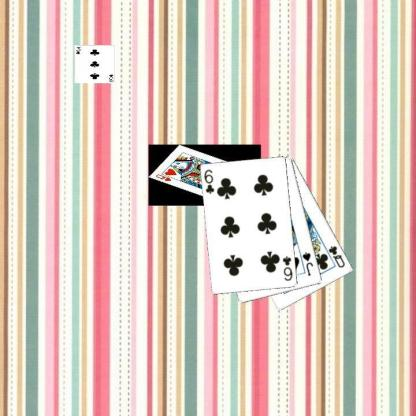6C: (280, 254, 294, 283), (202, 167, 216, 195)
JS: (300, 249, 315, 276)
QC: (326, 243, 347, 269)
